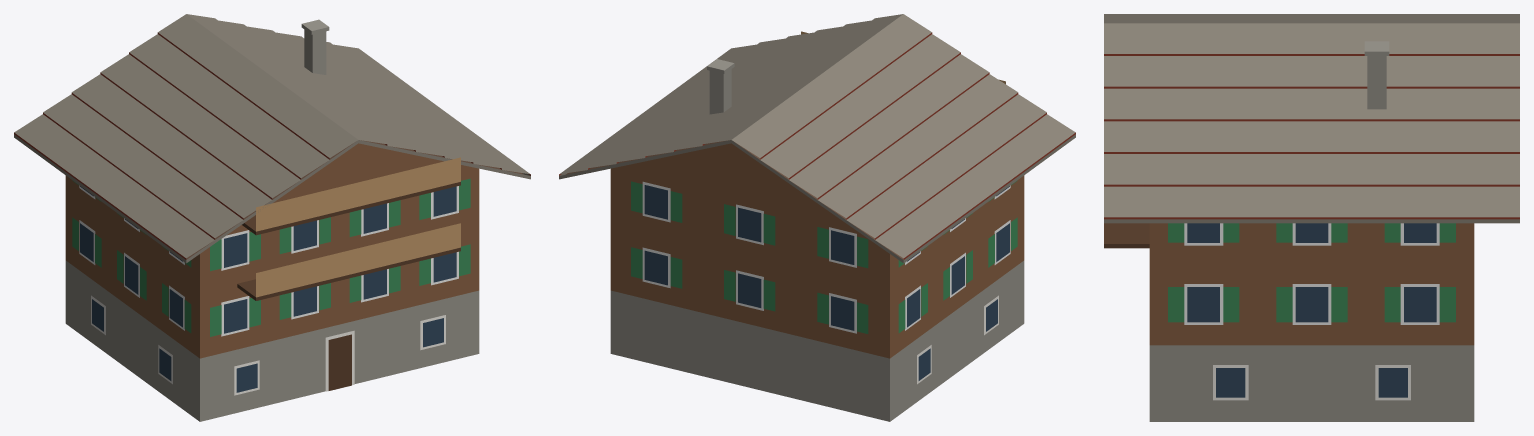
The model's file is chalet_bernois.glb.
3 views of the same model, side by side, from view 1: azimuth 30°, elevation 25°; view 2: azimuth 150°, elevation 25°; view 3: azimuth 270°, elevation 25° (orthographic). The views are drawn at different scales.
Parts seen in each view (by area): view 1: chalet_bernois; view 2: chalet_bernois; view 3: chalet_bernois.
Part boxes in pixels (<box>): chalet_bernois: <box>14,14,530,421</box>; chalet_bernois: <box>559,14,1075,421</box>; chalet_bernois: <box>1104,14,1519,421</box>.
Size of the model in its own units: 14.8 by 11.35 by 12.8.
1 material, 1 textured.
